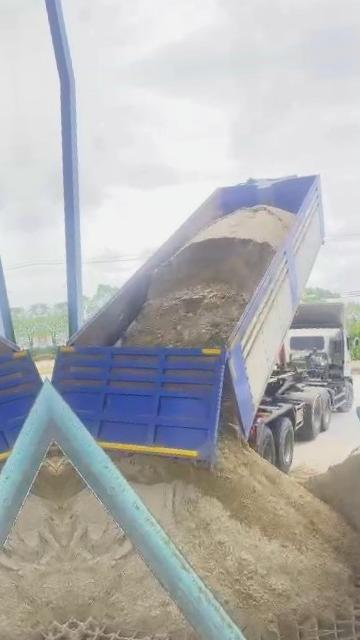sand: (115, 430, 360, 640), (123, 205, 294, 347), (56, 464, 192, 637), (304, 442, 360, 537)
